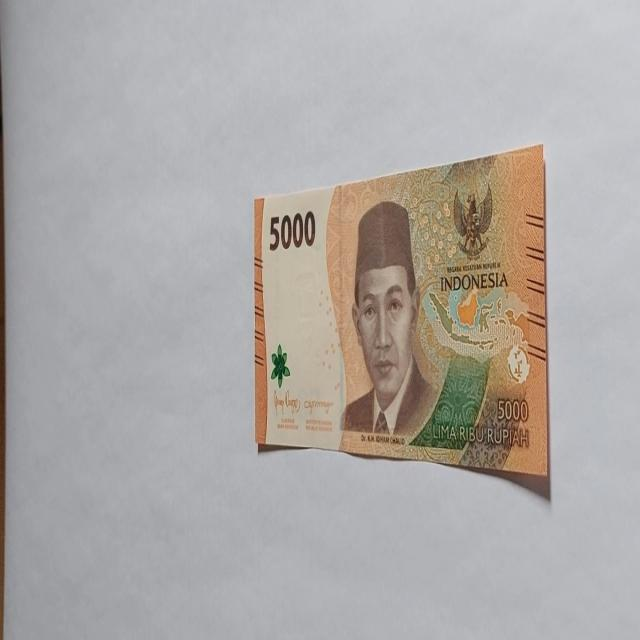lima ribu rupiah: (254, 146, 552, 500), (339, 199, 438, 440)
